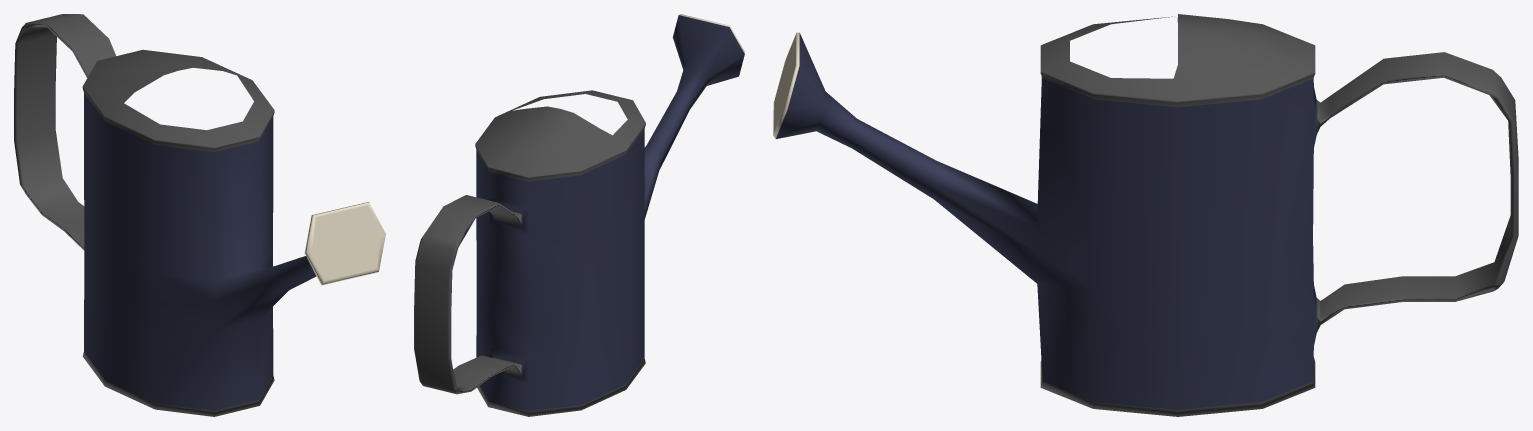
The model's file is watering-can.glb.
3 views of the same model, side by side, from view 1: azimuth 30°, elevation 25°; view 2: azimuth 150°, elevation 25°; view 3: azimuth 270°, elevation 25° (orthographic). The views are drawn at different scales.
Visible parts, largest first — view 1: Watering_Can; view 2: Watering_Can; view 3: Watering_Can.
Boxes of the visible parts, <box> form: Watering_Can: <box>14,14,385,416</box>; Watering_Can: <box>414,14,744,416</box>; Watering_Can: <box>773,14,1518,416</box>.
Size of the model in its own units: 3.62 by 6.99 by 13.53.
